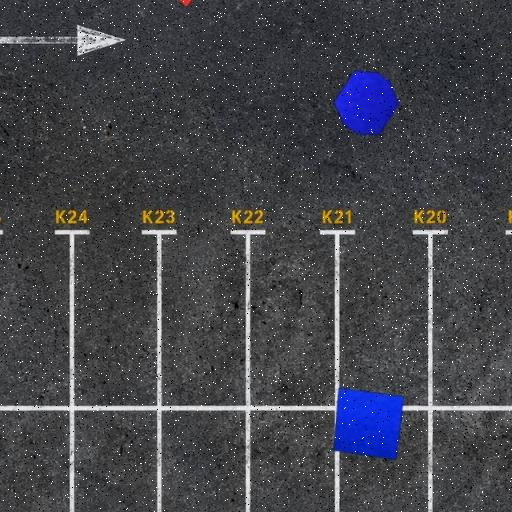BLUE_SQUARE: (333, 387, 405, 461)
